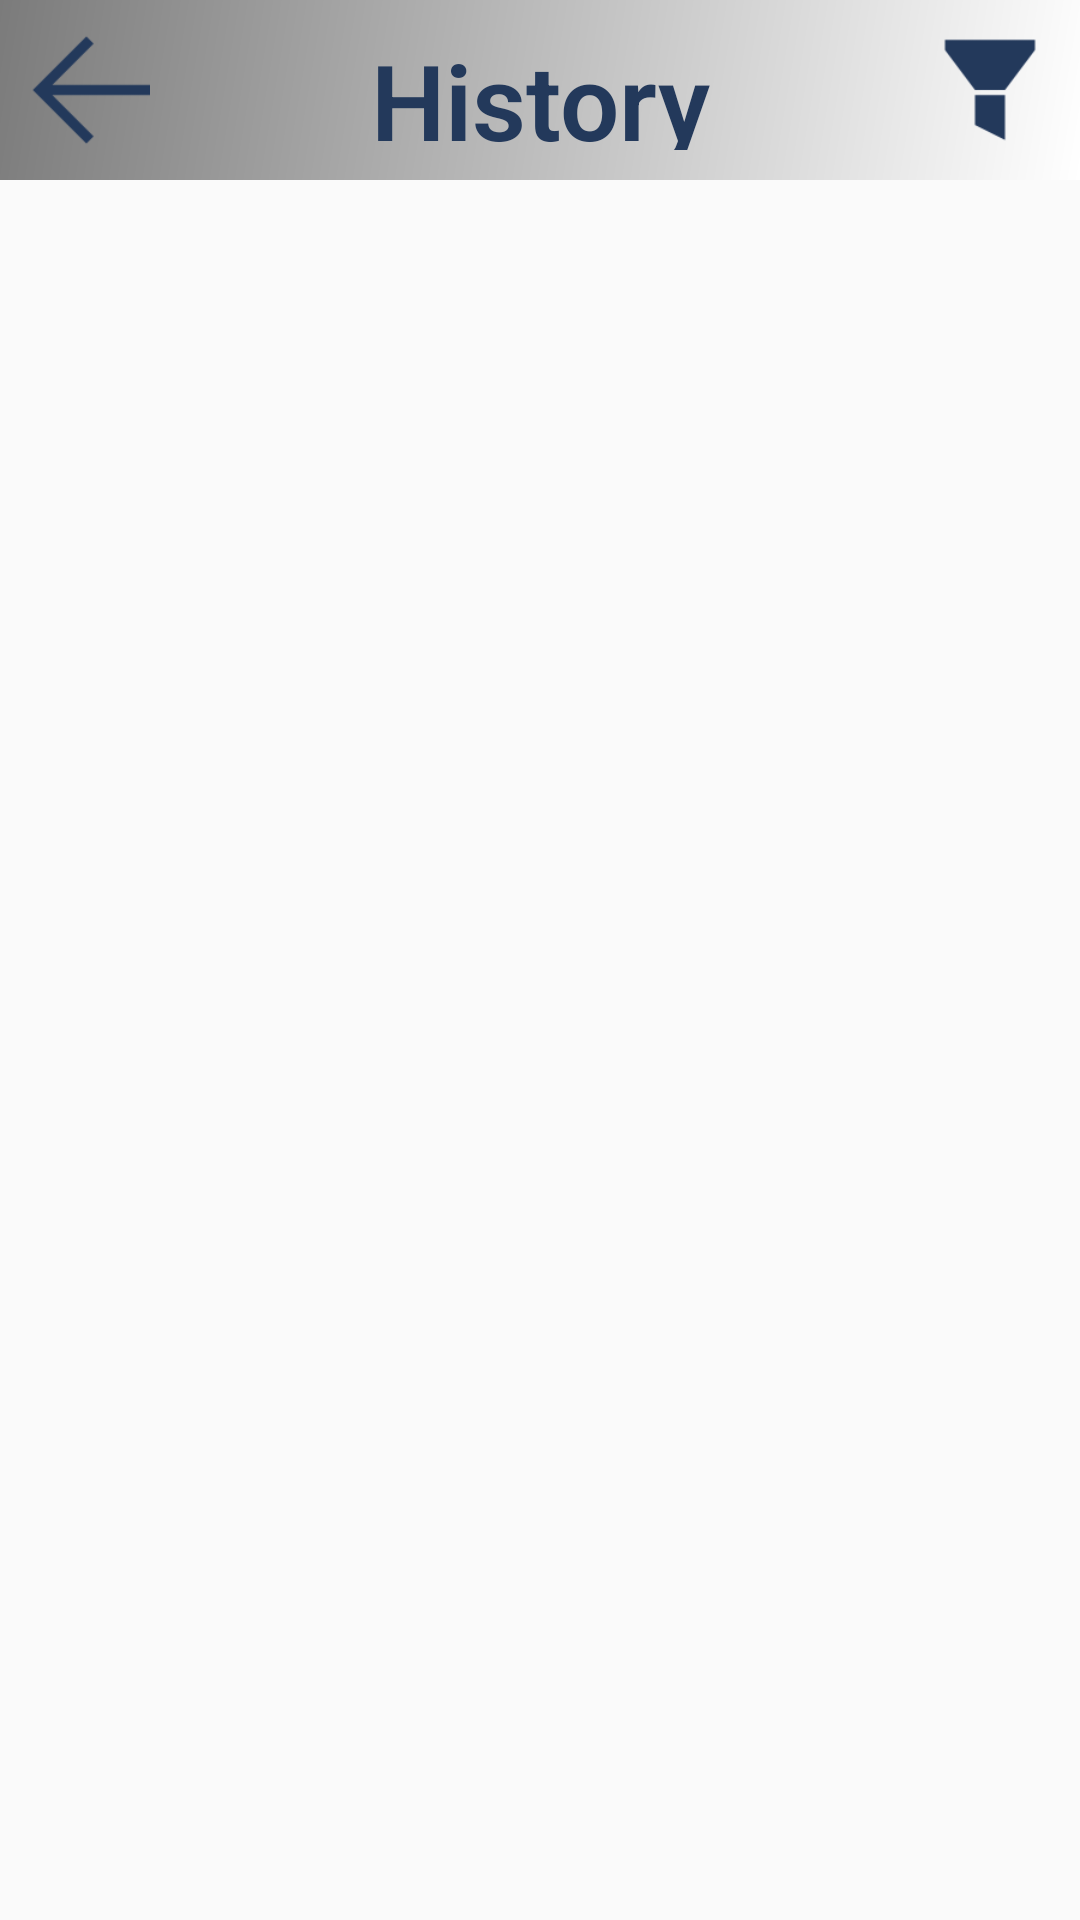

Locate icon controls on the screen. Image size 1080 x 1920, boxes as (x1, y1, x2, y2).
back: (33, 37, 150, 143)
filter: (944, 39, 1036, 140)
